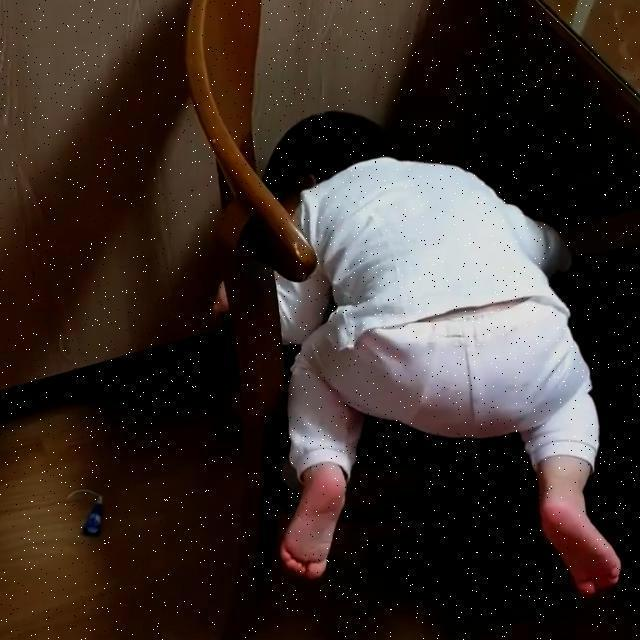child: (250, 113, 619, 586)
